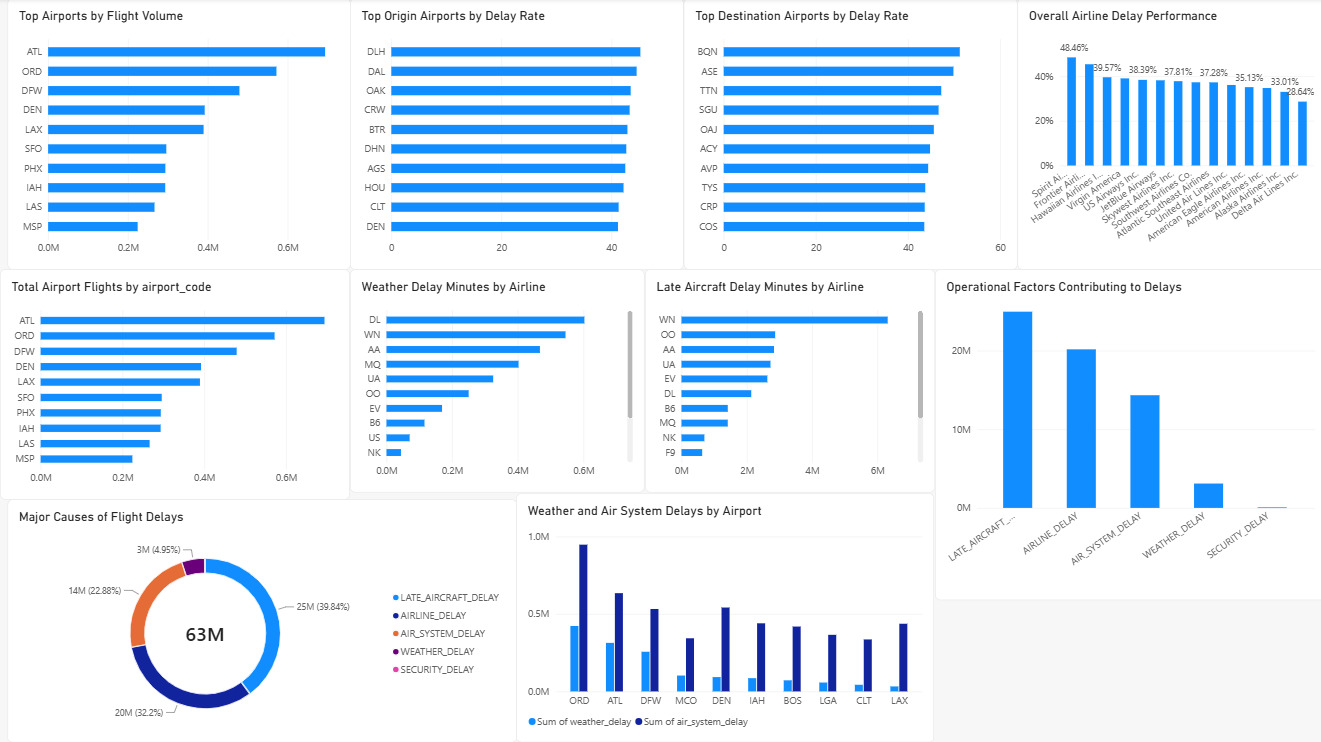

What the dashboard file says about the page in this screenshot:
{"tool":"powerbi","page":{"name":"Airport & Airline Performance.","canvas":[1920,1080],"ordinal":1},"visuals":[{"type":"clusteredBarChart","title":"Top Airports by Flight Volume","fields":{"Category":["airport_summary.airport_code"],"Y":["airport_summary.Total Airport Flights"]},"box":[10,0,496.7,393.3],"z":0},{"type":"donutChart","title":"Major Causes of Flight Delays","fields":{"Category":["delay_cause_summary.cause"],"Y":["Sum(delay_cause_summary.total_delay_minutes)"]},"box":[10.3,725.9,737.9,353.4],"z":1000},{"type":"clusteredBarChart","title":"Weather Delay Minutes by Airline","fields":{"Category":["airline_cause_summary.airline_code"],"Y":["Sum(airline_cause_summary.weather_delay)"]},"box":[506.7,393.3,426.7,323.3],"z":2000},{"type":"clusteredBarChart","title":"Late Aircraft Delay Minutes by Airline","fields":{"Category":["airline_cause_summary.airline_code"],"Y":["Sum(airline_cause_summary.late_aircraft_delay)"]},"box":[933.3,393.3,420,323.3],"z":3000},{"type":"clusteredColumnChart","title":"Weather and Air System Delays by Airport","fields":{"Category":["airport_cause_summary.airport_code"],"Y":["Sum(airport_cause_summary.weather_delay)","Sum(airport_cause_summary.air_system_delay)"]},"box":[748.3,717.2,605.2,362.1],"z":4000},{"type":"clusteredColumnChart","title":"Overall Airline Delay Performance","fields":{"Category":["airline_summary.airline_name"],"Y":["airline_summary.Delay Rate"]},"box":[1473.3,0,446.7,393.3],"z":4001},{"type":"clusteredColumnChart","title":"Operational Factors Contributing to Delays","fields":{"Category":["delay_cause_summary.cause"],"Y":["Sum(delay_cause_summary.total_delay_minutes)"]},"box":[1353.4,393.1,567.2,479.3],"z":4002},{"type":"clusteredBarChart","title":"Top Origin Airports by Delay Rate","fields":{"Category":["airport_summary.airport_code"],"Y":["Avg(airport_summary.origin_delay_rate)"]},"box":[506.7,0,483.3,393.3],"z":4003},{"type":"clusteredBarChart","title":"Top Destination Airports by Delay Rate","fields":{"Category":["airport_summary.airport_code"],"Y":["Sum(airport_summary.destination_delay_rate)"]},"box":[990,0,483.3,393.3],"z":4004},{"type":"clusteredBarChart","fields":{"Category":["airport_summary.airport_code"],"Y":["airport_summary.Total Airport Flights"]},"box":[0,393.3,506.7,333.3],"z":4005}]}

Visuals, with their boxes in screenshot pixels (x1, y1, x2, y2), scaled from the page's 1920x1080 canvas onto the 1321x742 screenshot:
"Top Airports by Flight Volume" clusteredBarChart: Rect(7, 0, 349, 270)
"Major Causes of Flight Delays" donutChart: Rect(7, 499, 515, 741)
"Weather Delay Minutes by Airline" clusteredBarChart: Rect(349, 270, 642, 492)
"Late Aircraft Delay Minutes by Airline" clusteredBarChart: Rect(642, 270, 931, 492)
"Weather and Air System Delays by Airport" clusteredColumnChart: Rect(515, 493, 931, 741)
"Overall Airline Delay Performance" clusteredColumnChart: Rect(1014, 0, 1320, 270)
"Operational Factors Contributing to Delays" clusteredColumnChart: Rect(931, 270, 1320, 599)
"Top Origin Airports by Delay Rate" clusteredBarChart: Rect(349, 0, 681, 270)
"Top Destination Airports by Delay Rate" clusteredBarChart: Rect(681, 0, 1014, 270)
clusteredBarChart - airport_summary.airport_code x airport_summary.Total Airport Flights: Rect(0, 270, 349, 499)
